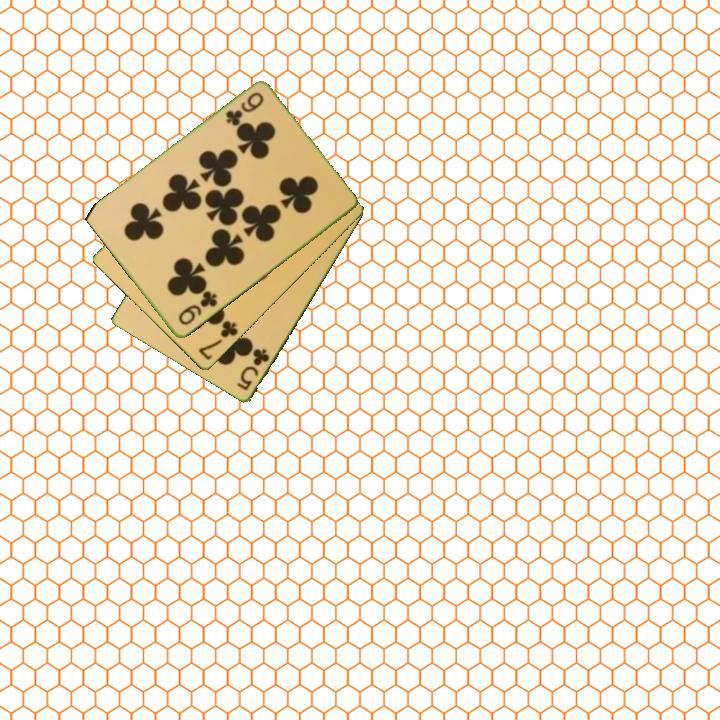5c: (233, 345, 273, 394)
7c: (195, 317, 241, 363)
9c: (174, 288, 220, 329), (222, 89, 267, 129)
